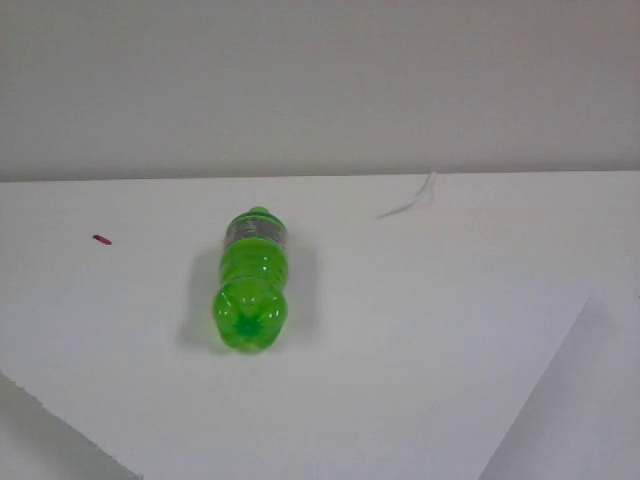botolplastik: (213, 206, 289, 349)
